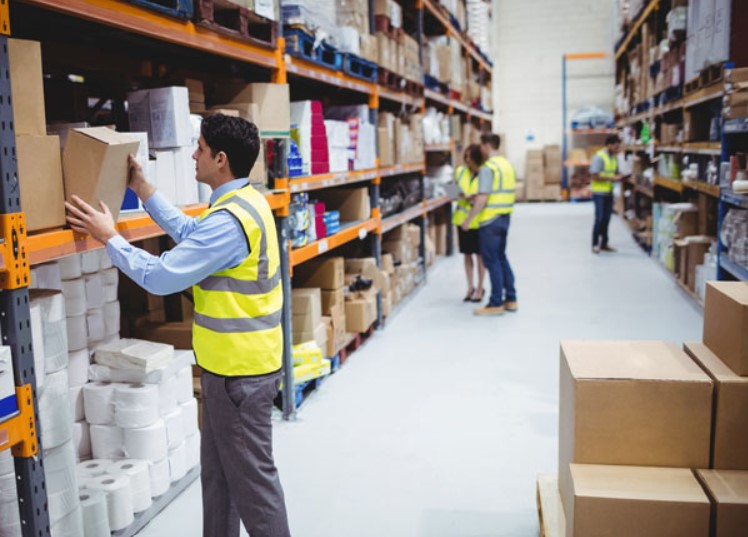worker: (192, 115, 284, 375)
